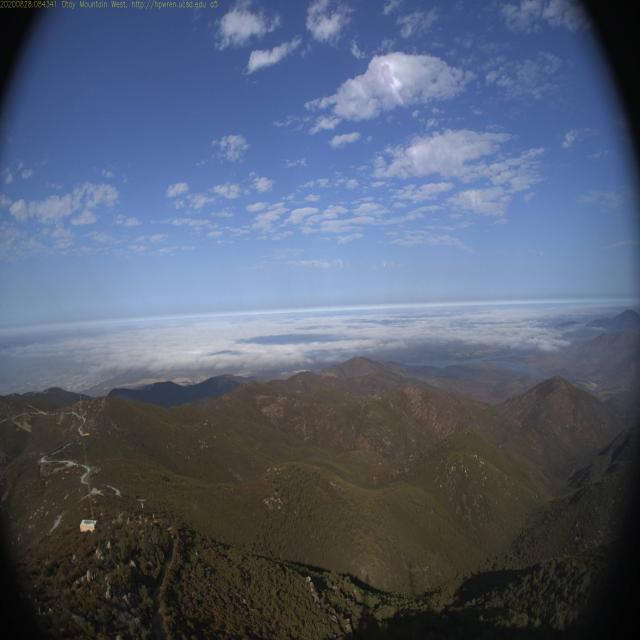smoke: (494, 368, 538, 408)
